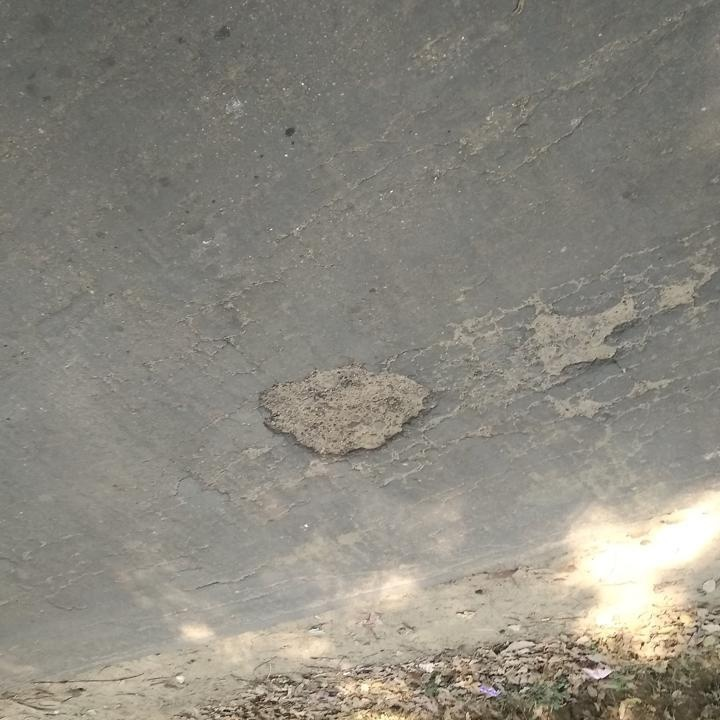pothole: (253, 361, 432, 462), (522, 290, 637, 381)
